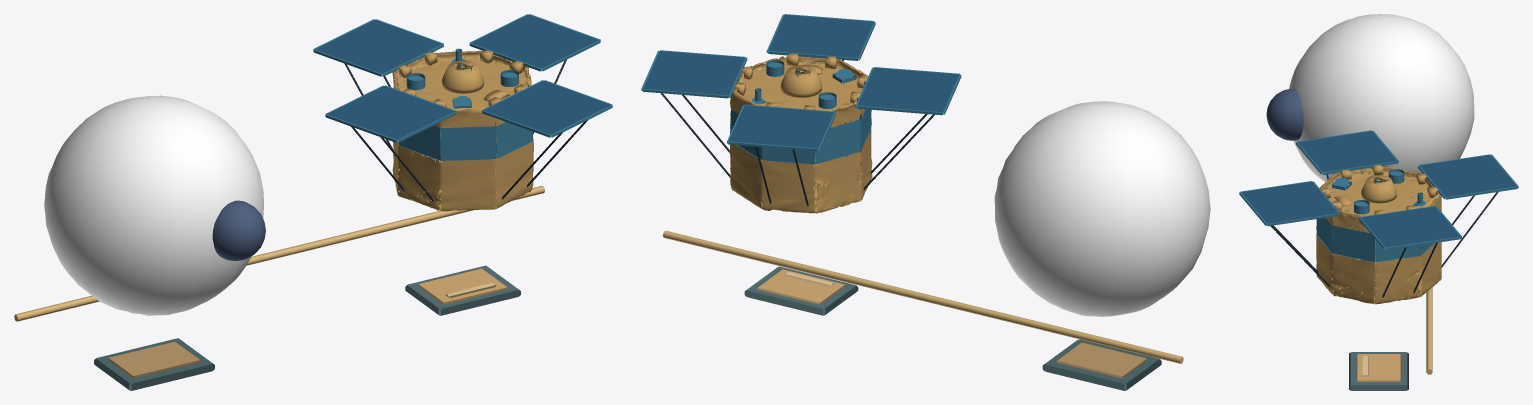
File: kepler-transito.obj
3 renders of one model, left to right at view 1: azimuth 30°, elevation 25°; view 2: azimuth 150°, elevation 25°; view 3: azimuth 270°, elevation 25°, orthographic. The views are drawn at different scales.
Parts seen in each view (by area): view 1: kepler-transito; view 2: kepler-transito; view 3: kepler-transito.
Boxes of the visible parts, x1,y1,x2,y2 form: kepler-transito: (14,14,612,390); kepler-transito: (641,14,1210,390); kepler-transito: (1239,14,1518,390).
Size of the model in its own units: 1.53 by 0.6853 by 0.7747.
